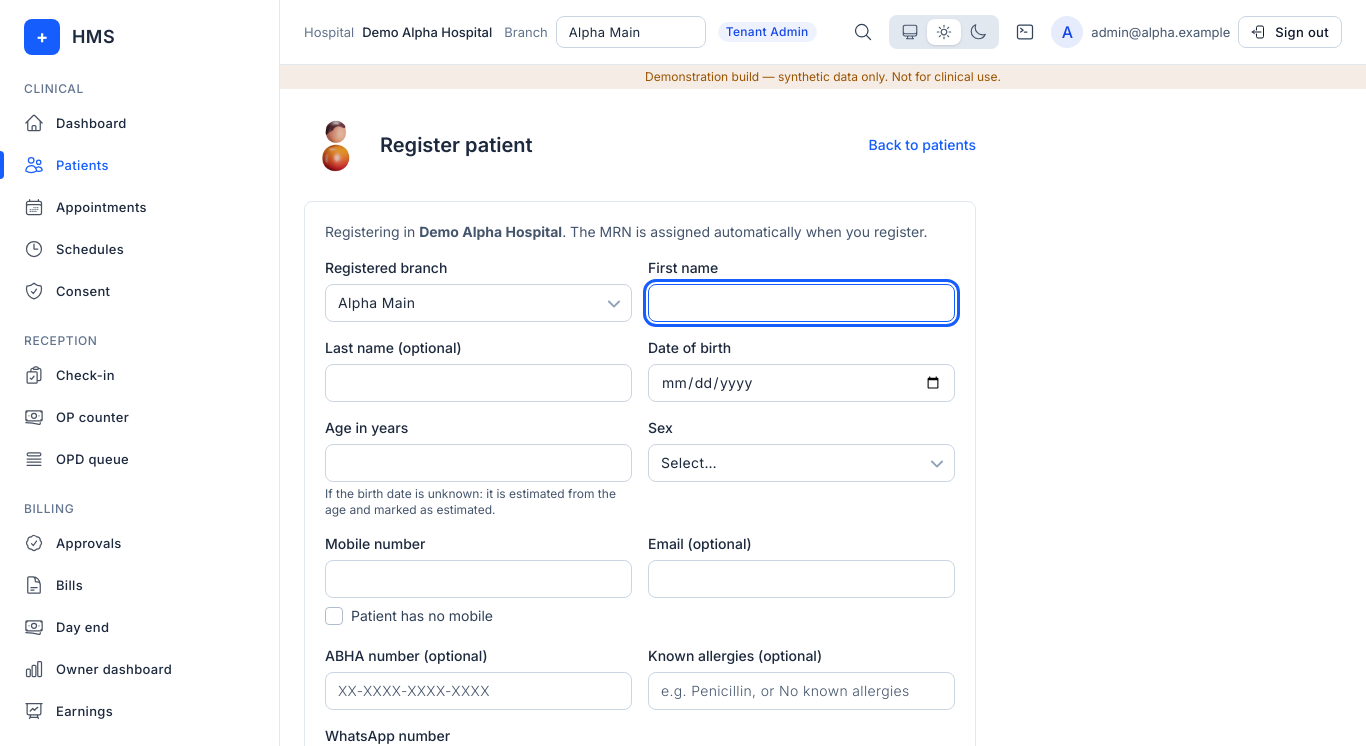
Test case: RegisterPatientPage › WhatsApp: "Same as phone number" is ticked by default; unticking asks for the WhatsApp number
Type "Wa" into the field labelled "First name" at (802, 303), box 648,284 -> 955,322
Type "Synthetic" into the field labelled "Last name (optional)" at (478, 383), box 325,364 -> 632,402
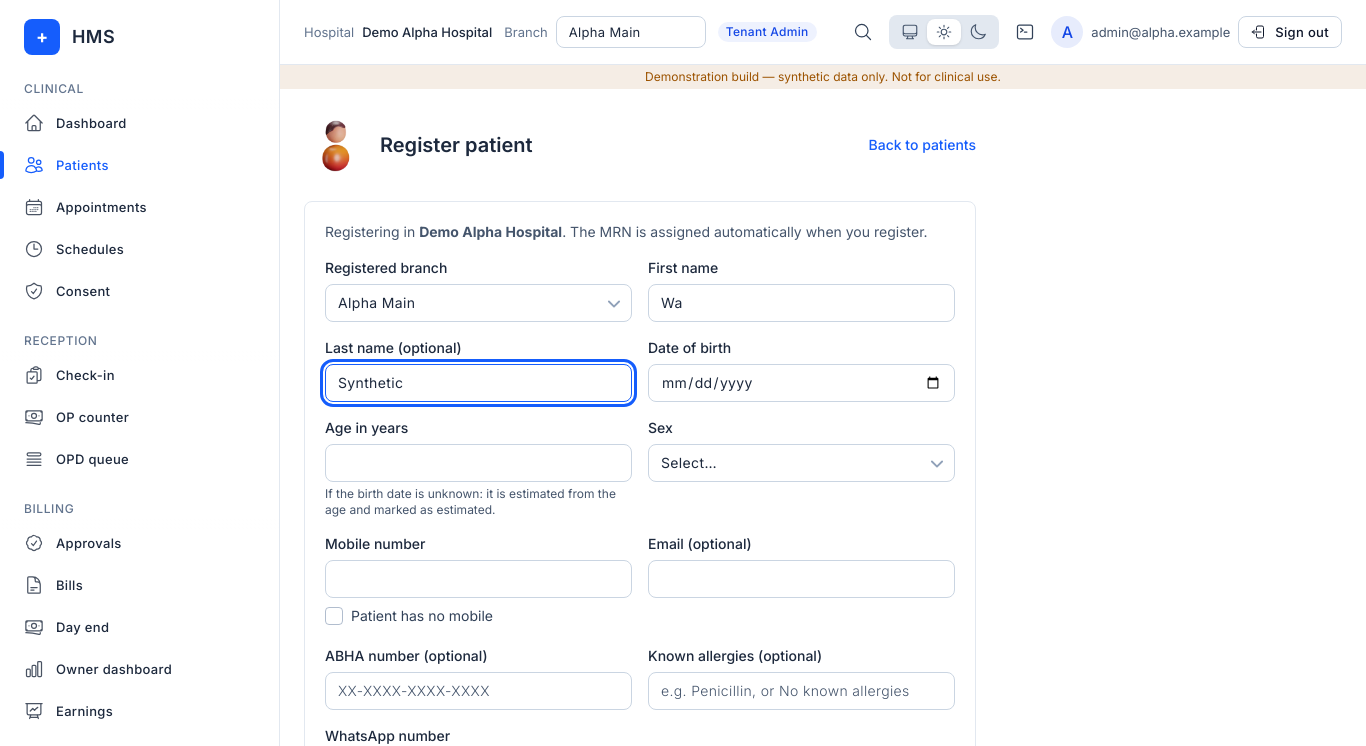
Type "98450 00001" into the field labelled "Mobile number" at (478, 579), box 325,560 -> 632,598
(page scrolled)
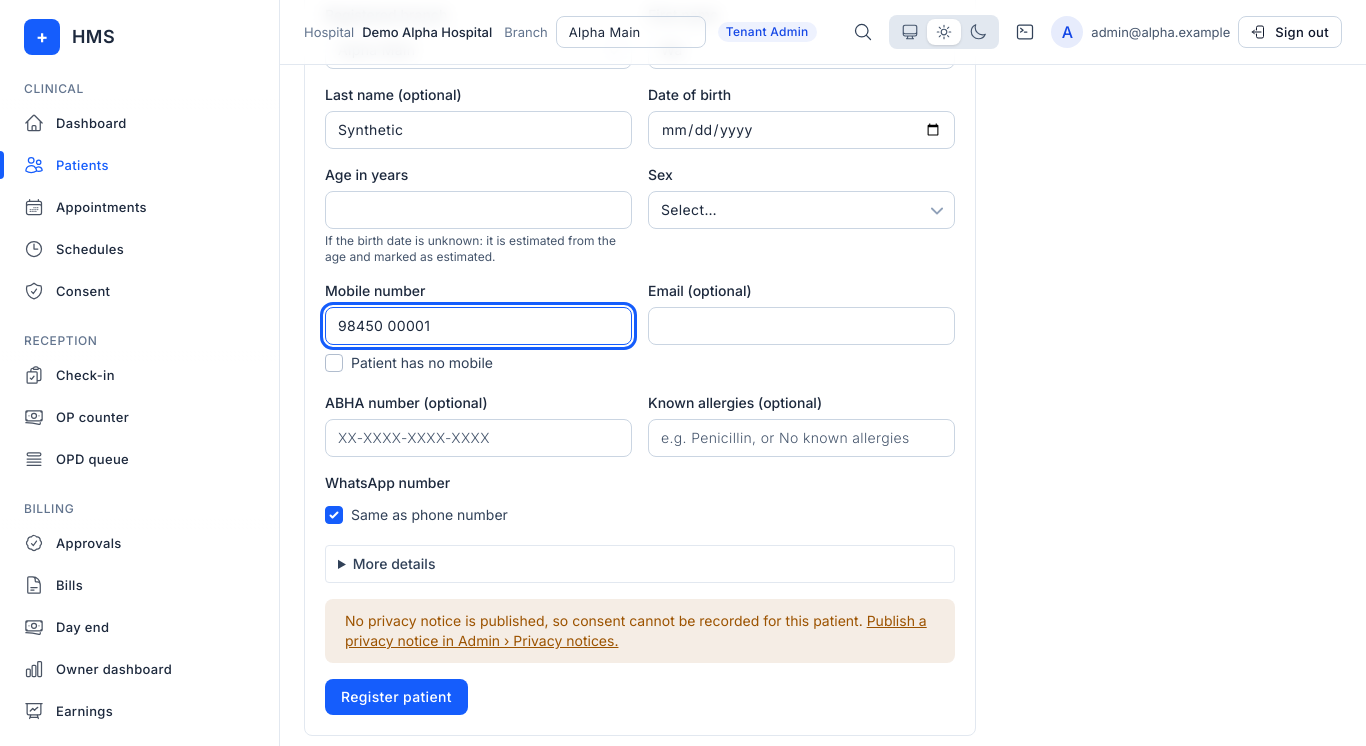
Click the checkbox labelled "Same as phone number" at (334, 515), box 325,506 -> 343,524
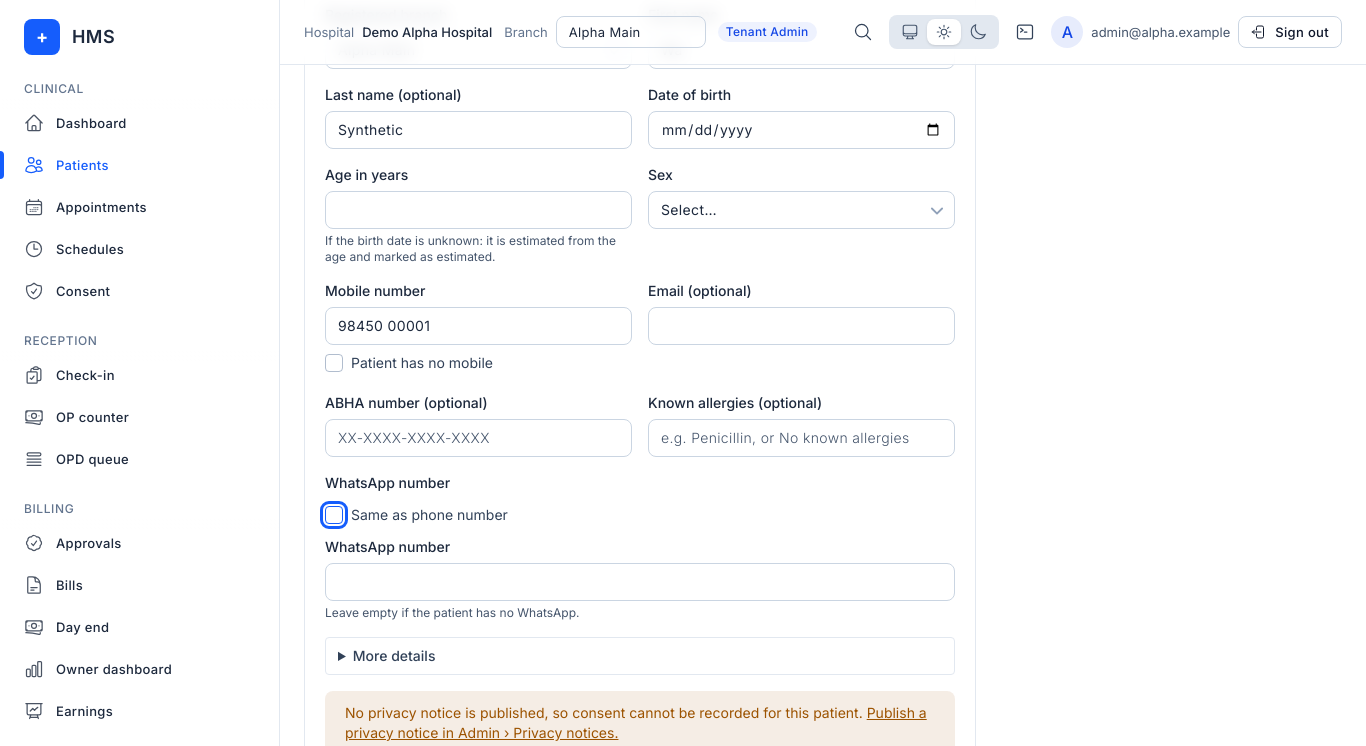
Type "+971 50 123 4567" into the field labelled "WhatsApp number" at (640, 582), box 325,563 -> 955,601
Select "Female" in the dropdown labelled "Sex" at (802, 210), box 648,191 -> 955,229
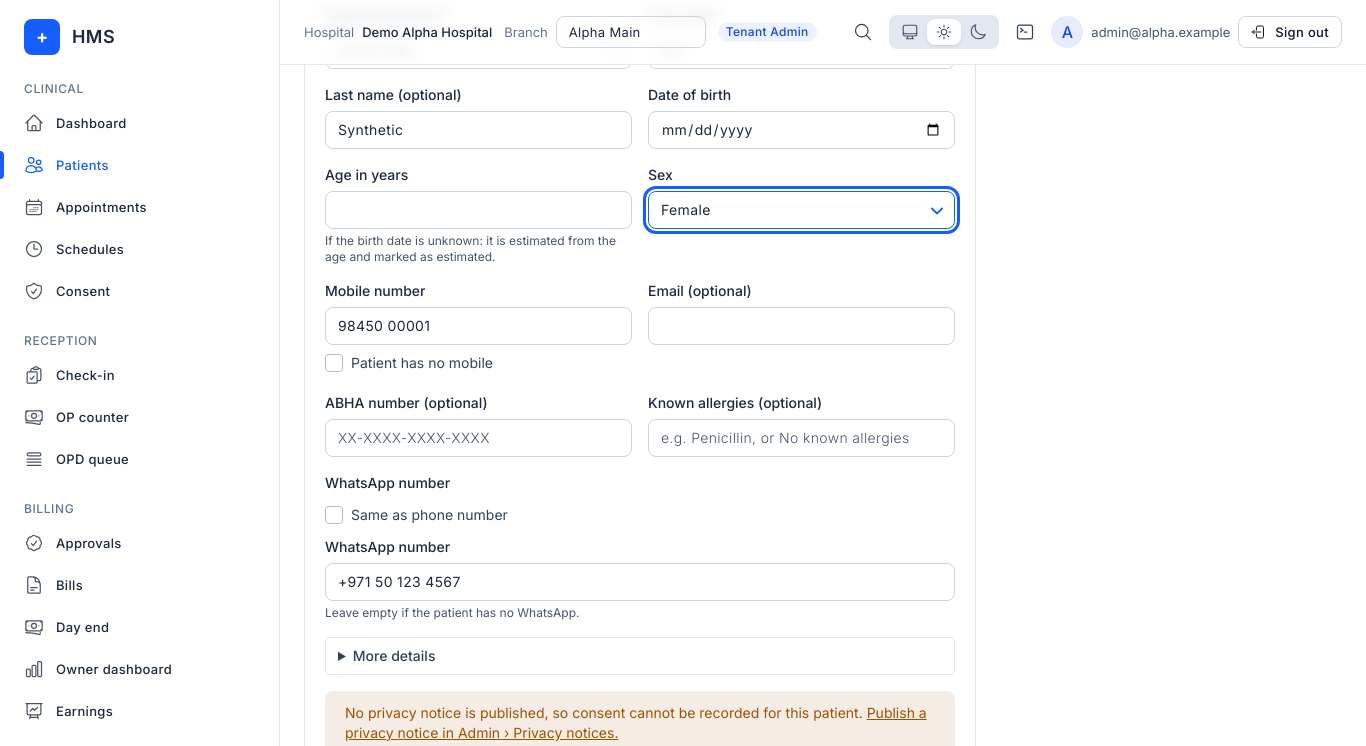
Type "30" into the field with test id "register-age" at (478, 210), box 325,191 -> 632,229
(page scrolled)
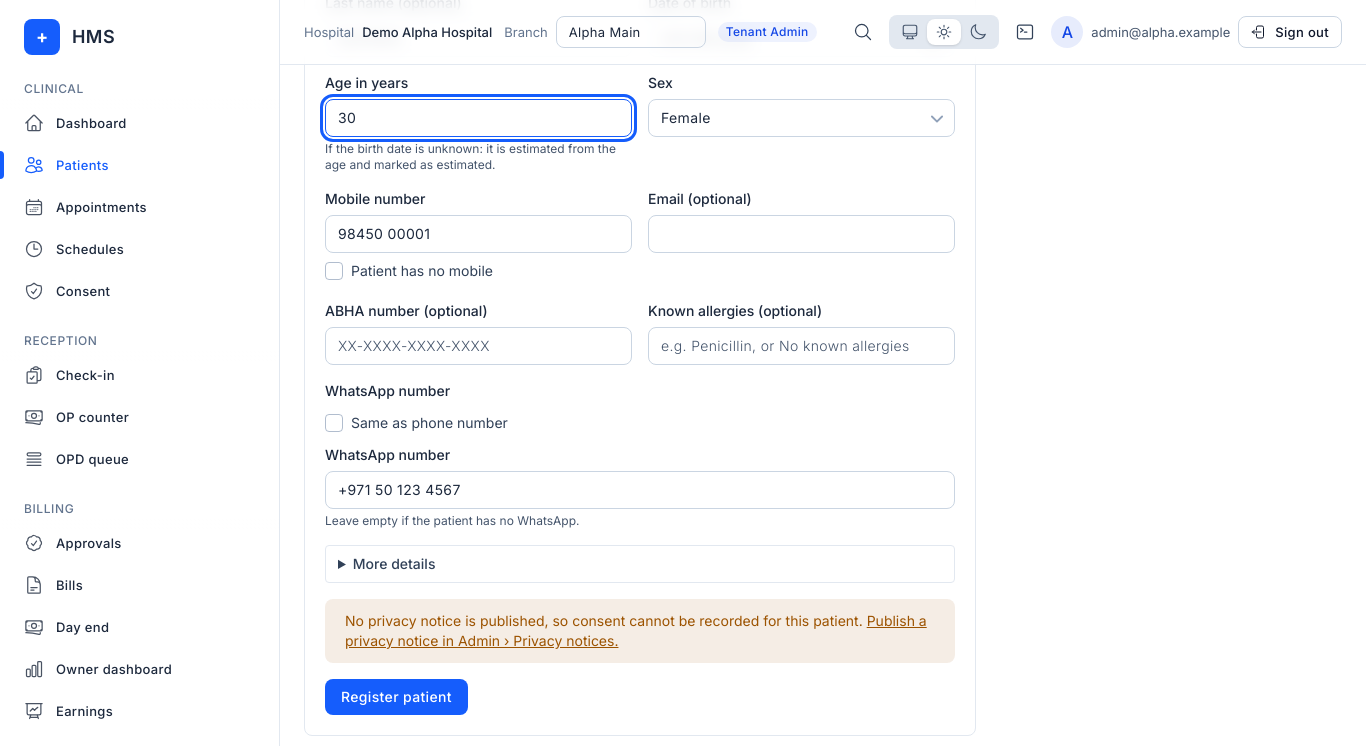
Click the button "Register patient" at (396, 697), box 325,679 -> 468,715
(page scrolled)
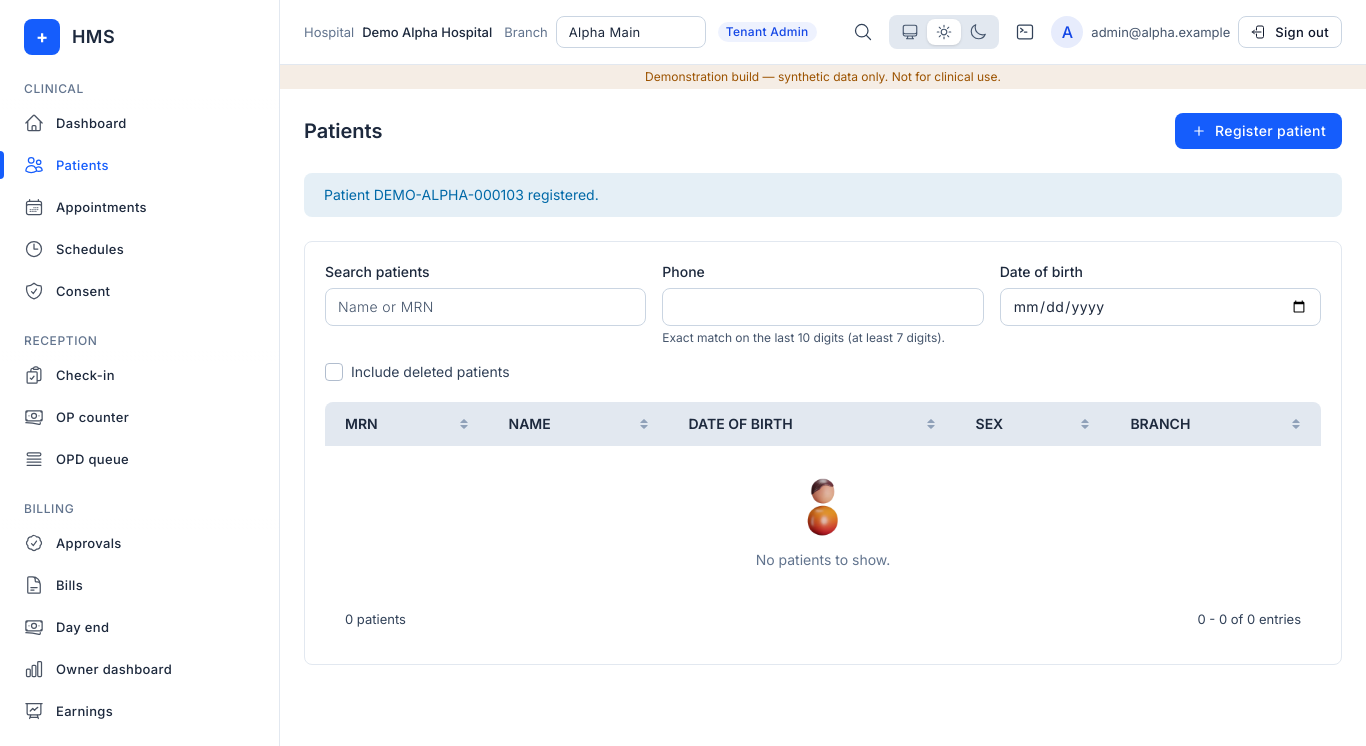
Result: the text "Patient DEMO-ALPHA-000103 registered." is shown at 304,173 -> 1342,217
